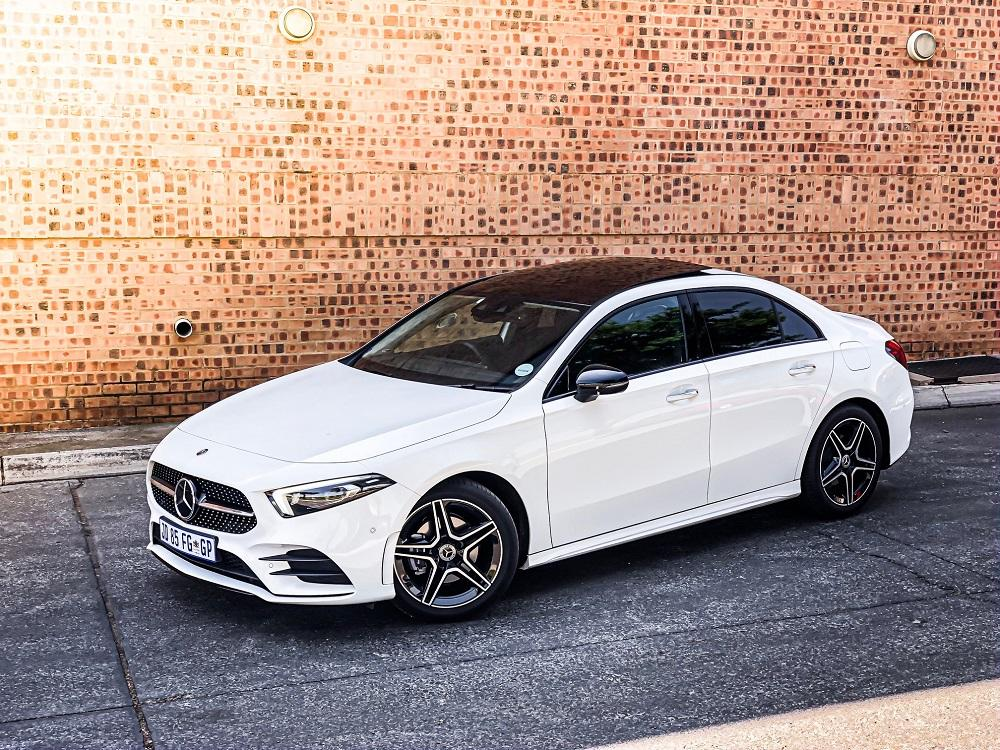car: (138, 251, 926, 629)
